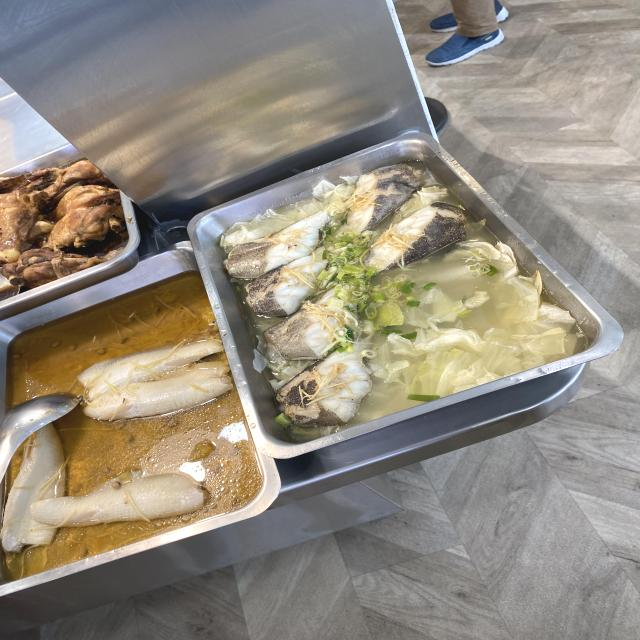Steamed fish: (263, 219, 452, 344)
